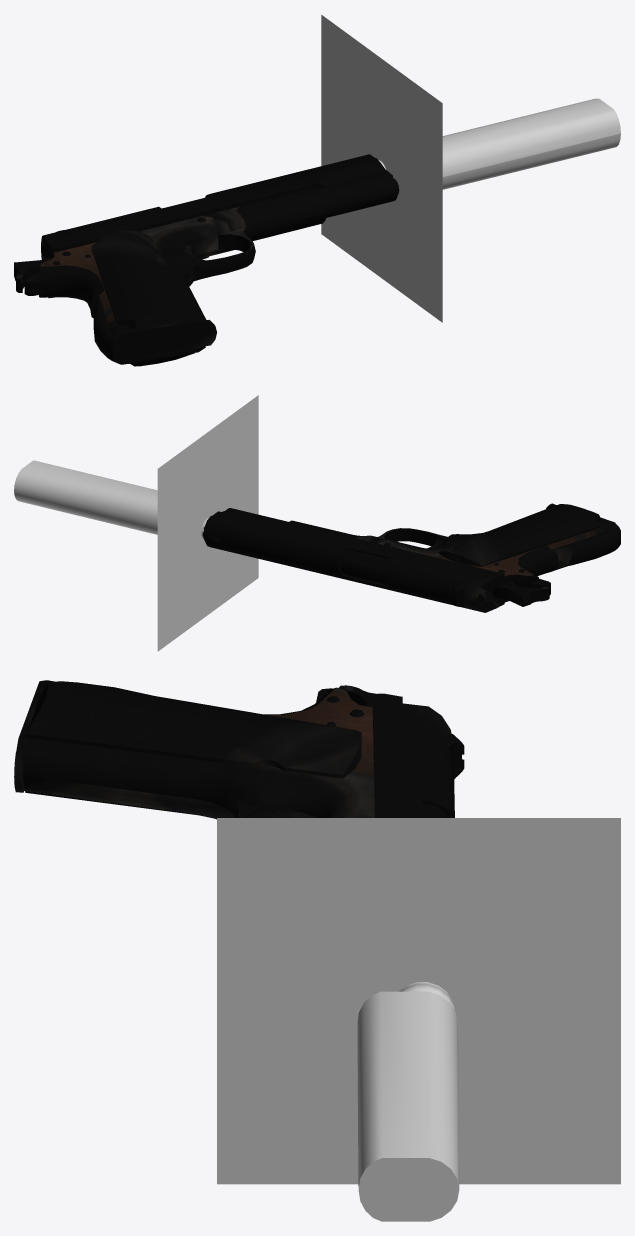
The model's file is colt.obj.
The picture shows the model from 3 angles, top to bottom: view 1: azimuth 30°, elevation 25°; view 2: azimuth 150°, elevation 25°; view 3: azimuth 270°, elevation 25°; orthographic projection. The views are drawn at different scales.
Visible parts, largest first — view 1: flashModel, gunModel, silencer_OGFObject1, slideModel, ammoModel; view 2: flashModel, gunModel, slideModel, silencer_OGFObject1; view 3: flashModel, gunModel, silencer_OGFObject1, slideModel.
Boxes of the visible parts, x1,y1,x2,y2 form: flashModel: (321, 15, 442, 322); gunModel: (14, 188, 326, 366); silencer_OGFObject1: (378, 98, 620, 189); slideModel: (41, 154, 399, 259); ammoModel: (140, 319, 216, 356); flashModel: (157, 395, 258, 651); gunModel: (203, 504, 620, 606); slideModel: (203, 508, 504, 612); silencer_OGFObject1: (14, 460, 208, 538); flashModel: (217, 818, 620, 1184); gunModel: (16, 680, 446, 819); silencer_OGFObject1: (357, 982, 459, 1221); slideModel: (373, 701, 464, 817).
Bounding box in the file's own units: 12.8 × 4.42 × 6.64.
